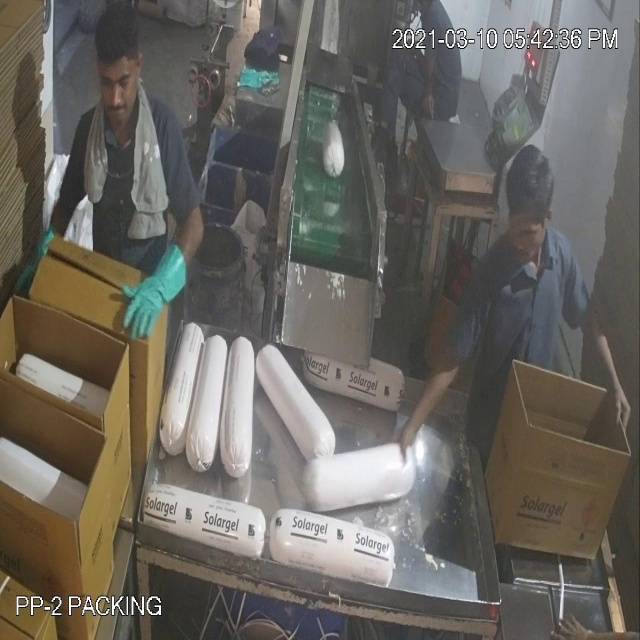Guantes: (386, 326, 484, 481), (112, 230, 202, 364), (574, 276, 635, 438)
